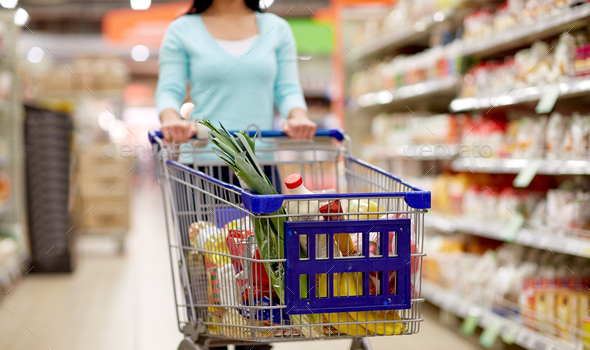with_basket: (152, 132, 432, 342)
